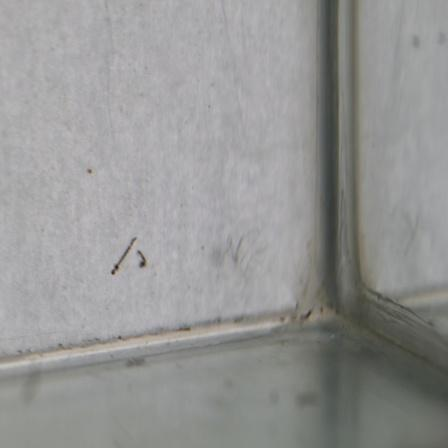Jentik-Nyamuk: (109, 235, 138, 278)
